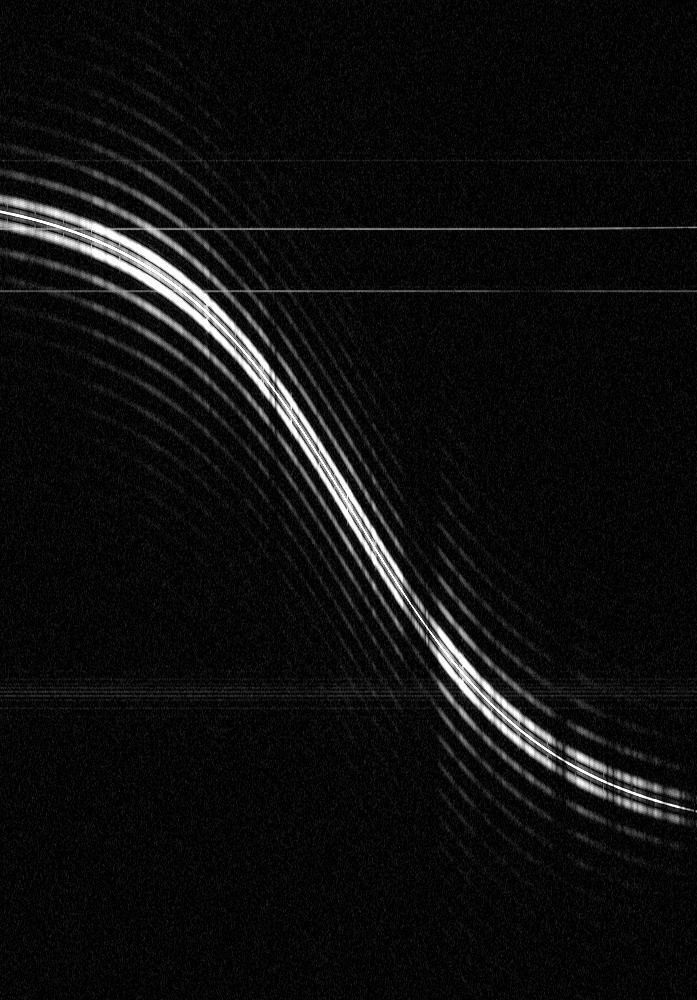signal: (0, 0, 696, 999)
